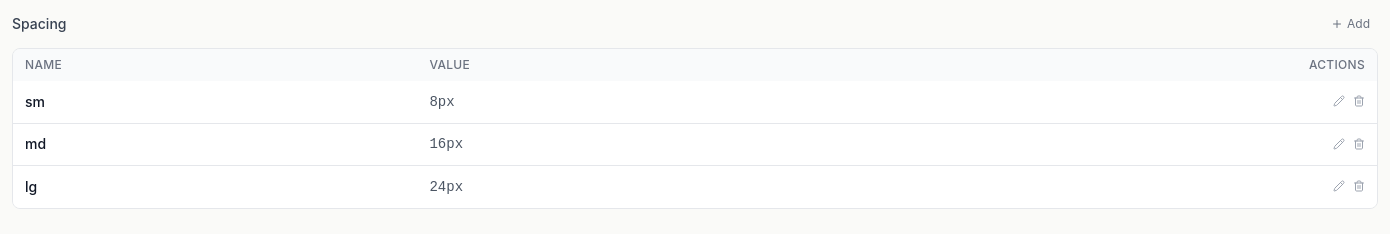
Scenario: SimpleTokenTable › enters edit mode when edit button is clicked
What coordinates should you click on to do the following:
click the button named "Edit" in the row of "sm"
I would click on:
 (1339, 101)
Its box is x1=1333 y1=95 x2=1345 y2=107.
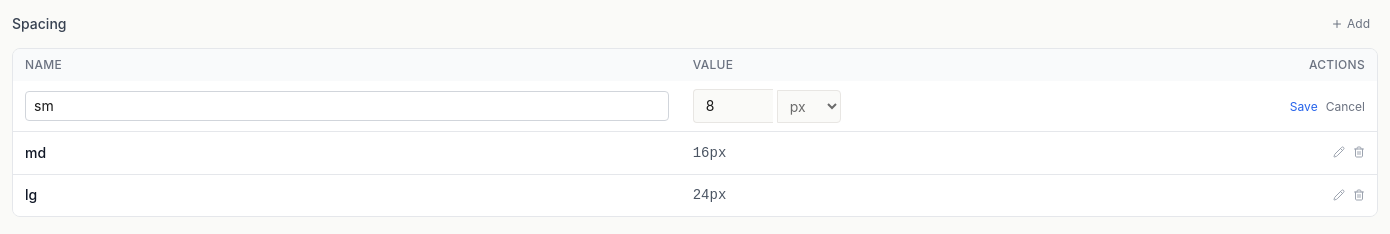
Check: the button "Save" is shown, box x1=1290 y1=99 x2=1318 y2=115
Check: the button "Cancel" is shown, box x1=1326 y1=99 x2=1365 y2=115
